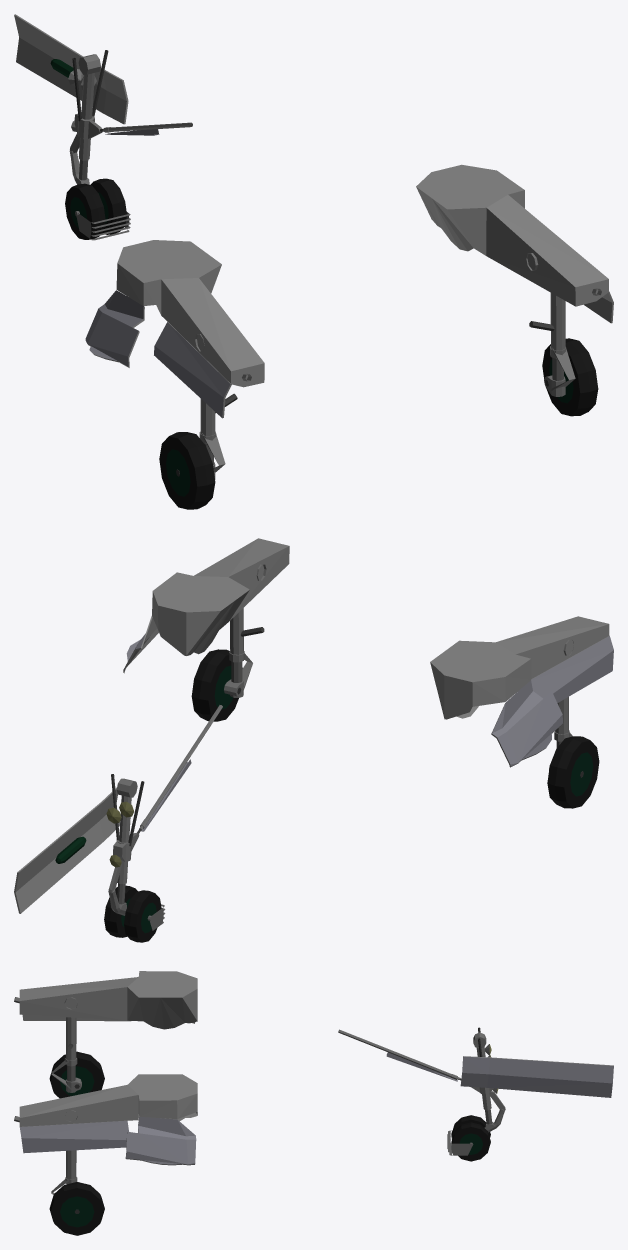
File: Gear_Su30MKING.obj
3 renders of one model, top to bottom at view 1: azimuth 30°, elevation 25°; view 2: azimuth 150°, elevation 25°; view 3: azimuth 270°, elevation 25°, orthographic. The views are drawn at different scales.
Visible parts, largest first — view 1: ShapeIndexedFaceSet.110_ShapeIndexedFaceSet.111, ShapeIndexedFaceSet.108_ShapeIndexedFaceSet.109, ShapeIndexedFaceSet.131_ShapeIndexedFaceSet.132, ShapeIndexedFaceSet.129_ShapeIndexedFaceSet.130, ShapeIndexedFaceSet.116_ShapeIndexedFaceSet.117, ShapeIndexedFaceSet.100_ShapeIndexedFaceSet.101, ShapeIndexedFaceSet.124_ShapeIndexedFaceSet.125, ShapeIndexedFaceSet.093_ShapeIndexedFaceSet.094, ShapeIndexedFaceSet.121_ShapeIndexedFaceSet.122, ShapeIndexedFaceSet.117_ShapeIndexedFaceSet.118, ShapeIndexedFaceSet.103_ShapeIndexedFaceSet.104, ShapeIndexedFaceSet.122_ShapeIndexedFaceSet.123; view 2: ShapeIndexedFaceSet.110_ShapeIndexedFaceSet.111, ShapeIndexedFaceSet.108_ShapeIndexedFaceSet.109, ShapeIndexedFaceSet.129_ShapeIndexedFaceSet.130, ShapeIndexedFaceSet.131_ShapeIndexedFaceSet.132, ShapeIndexedFaceSet.116_ShapeIndexedFaceSet.117, ShapeIndexedFaceSet.124_ShapeIndexedFaceSet.125, ShapeIndexedFaceSet.100_ShapeIndexedFaceSet.101, ShapeIndexedFaceSet.093_ShapeIndexedFaceSet.094, ShapeIndexedFaceSet.121_ShapeIndexedFaceSet.122, ShapeIndexedFaceSet.117_ShapeIndexedFaceSet.118, ShapeIndexedFaceSet.105_ShapeIndexedFaceSet.106; view 3: ShapeIndexedFaceSet.110_ShapeIndexedFaceSet.111, ShapeIndexedFaceSet.107_ShapeIndexedFaceSet.108, ShapeIndexedFaceSet.135_ShapeIndexedFaceSet.136, ShapeIndexedFaceSet.133_ShapeIndexedFaceSet.134, ShapeIndexedFaceSet.124_ShapeIndexedFaceSet.125, ShapeIndexedFaceSet.116_ShapeIndexedFaceSet.117, ShapeIndexedFaceSet.100_ShapeIndexedFaceSet.101, ShapeIndexedFaceSet.125_ShapeIndexedFaceSet.126, ShapeIndexedFaceSet.113_ShapeIndexedFaceSet.114, ShapeIndexedFaceSet.093_ShapeIndexedFaceSet.094, ShapeIndexedFaceSet.105_ShapeIndexedFaceSet.106, ShapeIndexedFaceSet.117_ShapeIndexedFaceSet.118 (+1 smaller).
Boxes of the visible parts, x1,y1,x2,y2 form: ShapeIndexedFaceSet.110_ShapeIndexedFaceSet.111: [116, 164, 608, 387]; ShapeIndexedFaceSet.108_ShapeIndexedFaceSet.109: [14, 14, 128, 124]; ShapeIndexedFaceSet.131_ShapeIndexedFaceSet.132: [154, 322, 230, 417]; ShapeIndexedFaceSet.129_ShapeIndexedFaceSet.130: [85, 290, 143, 366]; ShapeIndexedFaceSet.116_ShapeIndexedFaceSet.117: [159, 432, 215, 509]; ShapeIndexedFaceSet.100_ShapeIndexedFaceSet.101: [65, 178, 126, 239]; ShapeIndexedFaceSet.124_ShapeIndexedFaceSet.125: [542, 338, 598, 416]; ShapeIndexedFaceSet.093_ShapeIndexedFaceSet.094: [68, 54, 102, 160]; ShapeIndexedFaceSet.121_ShapeIndexedFaceSet.122: [526, 253, 566, 358]; ShapeIndexedFaceSet.117_ShapeIndexedFaceSet.118: [166, 449, 190, 496]; ShapeIndexedFaceSet.103_ShapeIndexedFaceSet.104: [75, 211, 130, 240]; ShapeIndexedFaceSet.122_ShapeIndexedFaceSet.123: [544, 347, 575, 396]; ShapeIndexedFaceSet.110_ShapeIndexedFaceSet.111: [152, 538, 609, 719]; ShapeIndexedFaceSet.108_ShapeIndexedFaceSet.109: [14, 787, 120, 913]; ShapeIndexedFaceSet.129_ShapeIndexedFaceSet.130: [492, 680, 562, 766]; ShapeIndexedFaceSet.131_ShapeIndexedFaceSet.132: [531, 636, 613, 702]; ShapeIndexedFaceSet.116_ShapeIndexedFaceSet.117: [547, 736, 599, 808]; ShapeIndexedFaceSet.124_ShapeIndexedFaceSet.125: [191, 649, 242, 721]; ShapeIndexedFaceSet.100_ShapeIndexedFaceSet.101: [104, 885, 161, 942]; ShapeIndexedFaceSet.093_ShapeIndexedFaceSet.094: [113, 778, 139, 884]; ShapeIndexedFaceSet.121_ShapeIndexedFaceSet.122: [229, 564, 266, 662]; ShapeIndexedFaceSet.117_ShapeIndexedFaceSet.118: [570, 752, 593, 796]; ShapeIndexedFaceSet.105_ShapeIndexedFaceSet.106: [139, 705, 222, 830]; ShapeIndexedFaceSet.110_ShapeIndexedFaceSet.111: [19, 971, 197, 1126]; ShapeIndexedFaceSet.107_ShapeIndexedFaceSet.108: [460, 1056, 613, 1097]; ShapeIndexedFaceSet.135_ShapeIndexedFaceSet.136: [20, 1120, 128, 1153]; ShapeIndexedFaceSet.133_ShapeIndexedFaceSet.134: [126, 1116, 196, 1164]; ShapeIndexedFaceSet.124_ShapeIndexedFaceSet.125: [49, 1182, 104, 1235]; ShapeIndexedFaceSet.116_ShapeIndexedFaceSet.117: [49, 1051, 104, 1098]; ShapeIndexedFaceSet.100_ShapeIndexedFaceSet.101: [451, 1115, 490, 1161]; ShapeIndexedFaceSet.125_ShapeIndexedFaceSet.126: [60, 1196, 94, 1227]; ShapeIndexedFaceSet.113_ShapeIndexedFaceSet.114: [64, 997, 77, 1066]; ShapeIndexedFaceSet.093_ShapeIndexedFaceSet.094: [471, 1032, 496, 1110]; ShapeIndexedFaceSet.105_ShapeIndexedFaceSet.106: [338, 1029, 460, 1079]; ShapeIndexedFaceSet.117_ShapeIndexedFaceSet.118: [60, 1066, 94, 1095].
Bounding box in the file's own units: 54.57 × 23.22 × 90.77.
